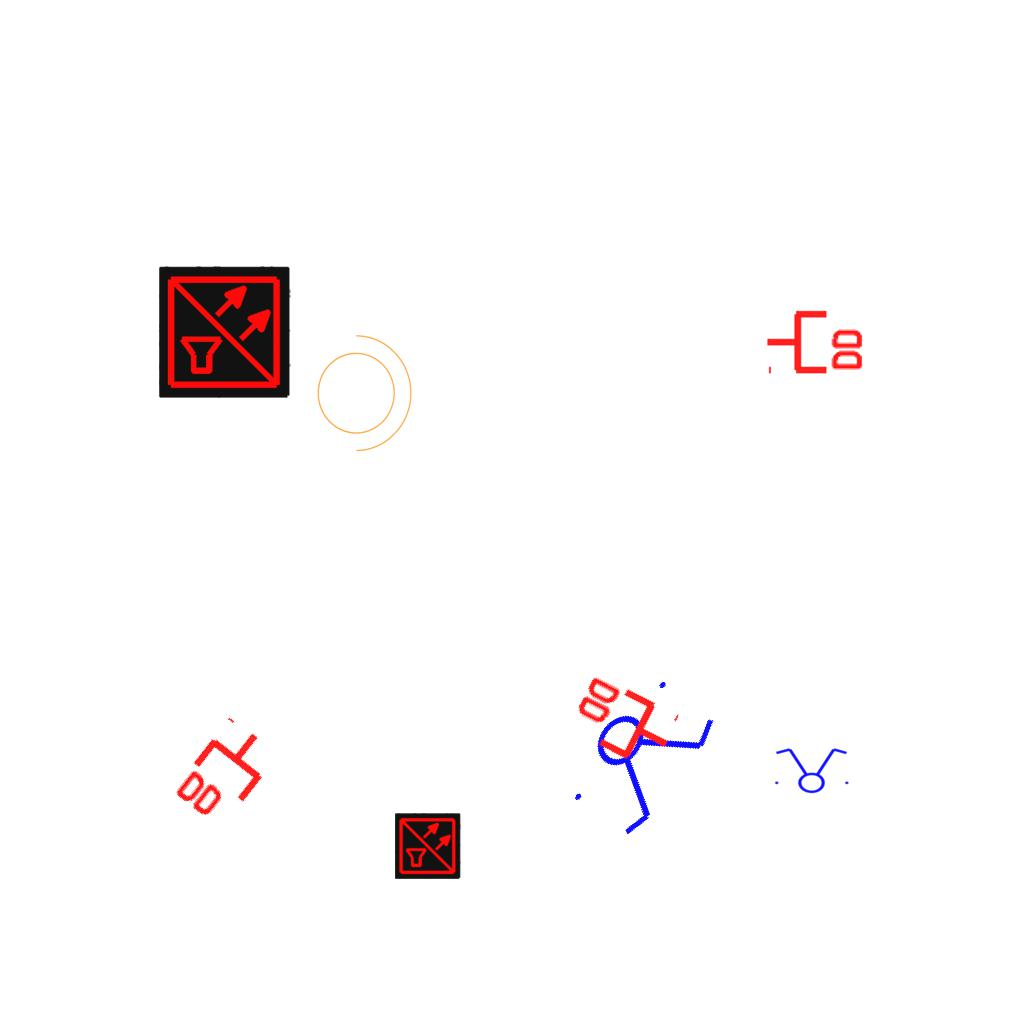Datenanschluss_zweifach: (167, 712, 286, 837), (560, 669, 685, 778), (764, 306, 867, 375)
OKW_Multisensormelder_(Kombination_optischer_Rauch-Kahlenmonoxid_Waerme-Melder): (159, 266, 291, 398), (395, 813, 461, 879)
Scheinwerfer_fuer_Alarmbeleuchtung: (305, 324, 417, 456)
Serienschalter: (553, 659, 731, 851), (769, 746, 853, 794)
